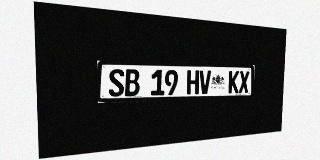1: (151, 70, 165, 95)
9: (165, 70, 178, 95)
B: (125, 69, 140, 96)
H: (187, 70, 199, 94)
K: (228, 71, 239, 93)
S: (109, 69, 124, 97)
V: (199, 70, 211, 94)
X: (239, 71, 249, 93)
